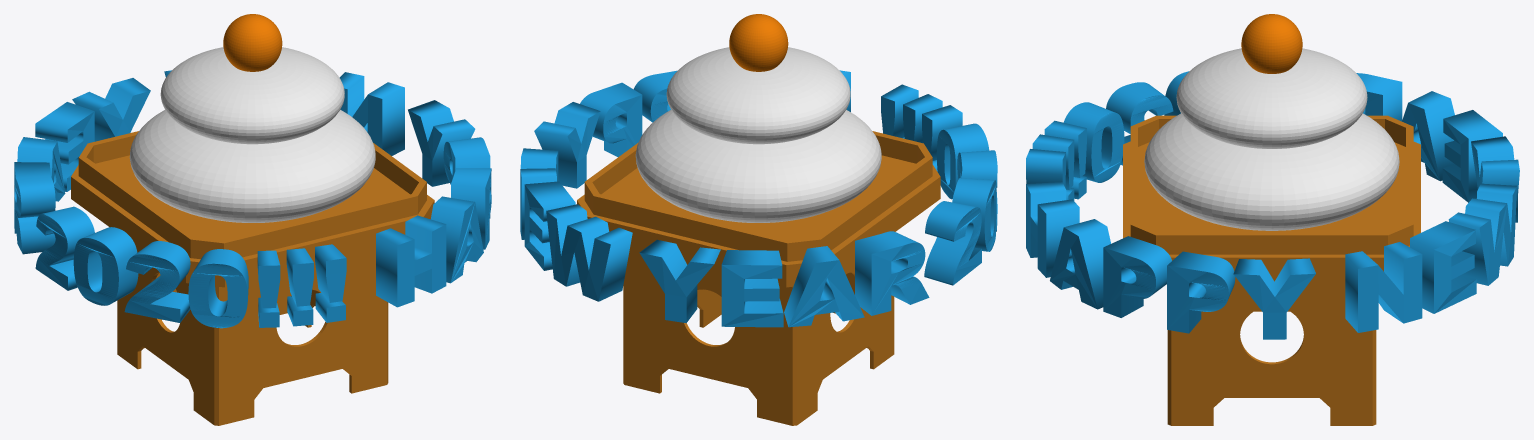
The model's file is newyear.glb.
The picture shows the model from 3 angles, left to right: view 1: azimuth 30°, elevation 25°; view 2: azimuth 150°, elevation 25°; view 3: azimuth 270°, elevation 25°; orthographic projection. The views are drawn at different scales.
Visible parts, largest first — view 1: テキスト, 平面, 球, 球.001, 球.002; view 2: テキスト, 平面, 球, 球.001, 球.002; view 3: テキスト, 平面, 球, 球.001, 球.002.
Part boxes in pixels (x1=…): テキスト: x1=14, y1=70, x2=491, y2=328; 平面: x1=71, y1=131, x2=434, y2=425; 球: x1=129, y1=110, x2=375, y2=222; 球.001: x1=160, y1=47, x2=344, y2=144; 球.002: x1=223, y1=14, x2=282, y2=71; テキスト: x1=520, y1=70, x2=997, y2=327; 平面: x1=577, y1=131, x2=940, y2=425; 球: x1=635, y1=110, x2=881, y2=222; 球.001: x1=666, y1=47, x2=850, y2=144; 球.002: x1=729, y1=14, x2=788, y2=71; テキスト: x1=1026, y1=71, x2=1519, y2=339; 平面: x1=1123, y1=115, x2=1420, y2=425; 球: x1=1144, y1=113, x2=1399, y2=230; 球.001: x1=1176, y1=48, x2=1367, y2=148; 球.002: x1=1241, y1=14, x2=1302, y2=73.
Bounding box in the file's own units: 10.8 × 8.77 × 10.76.
